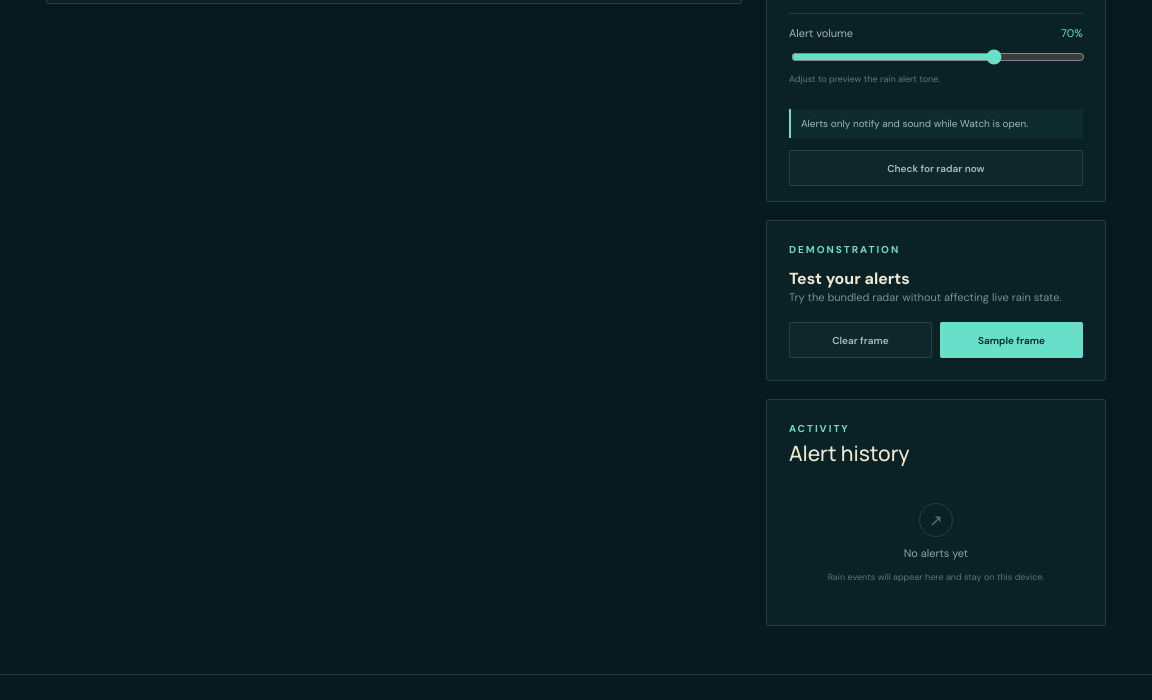
Scenario: rain alert tone › stays quiet when rain alerts are off
(page scrolled)
What coordinates should you click on to do the following:
click the button "Sample frame"
I would click on:
 (1011, 340)
Its box is [940,322,1083,358].
(page scrolled)
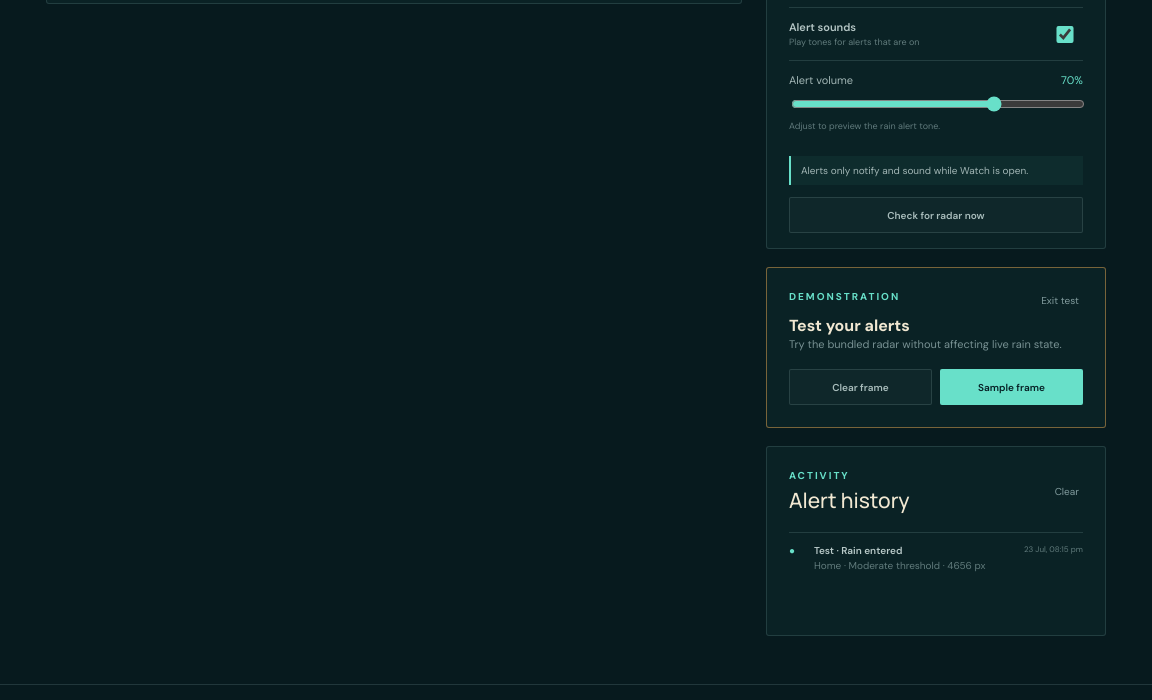
Expected: the text "Rain entered" is shown, [814,544,902,557]
